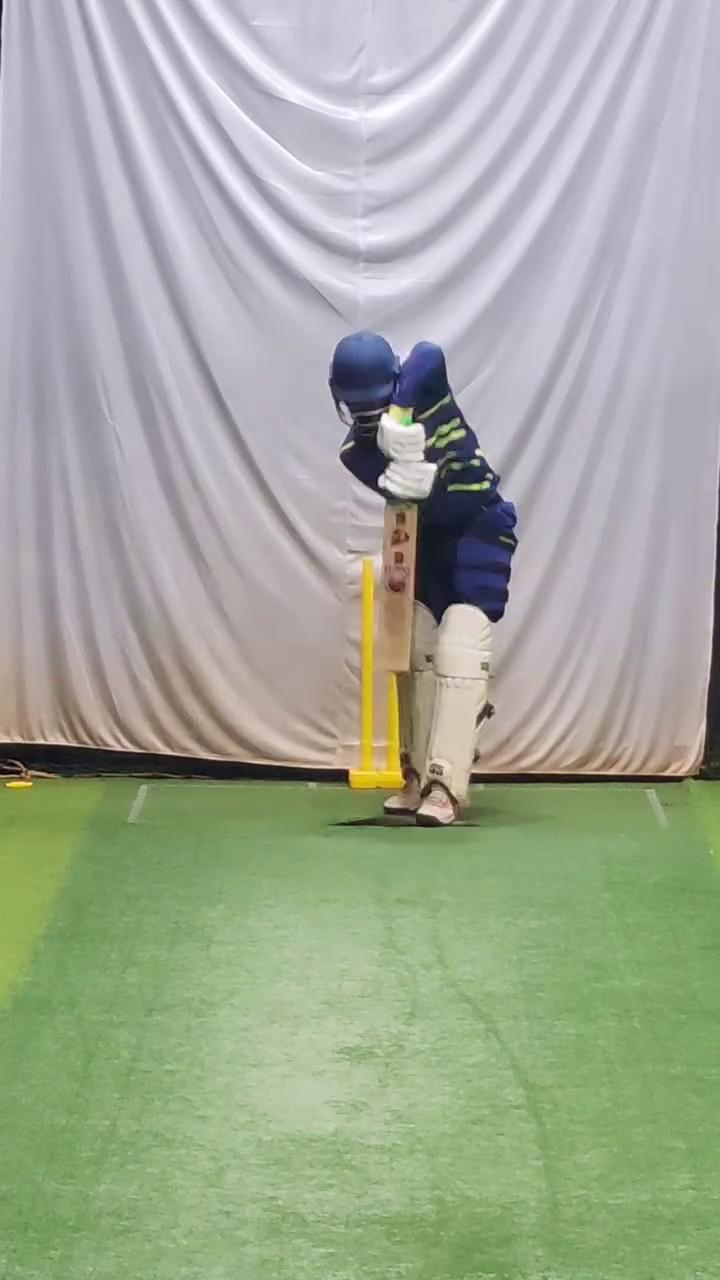bat: (374, 503, 418, 671)
